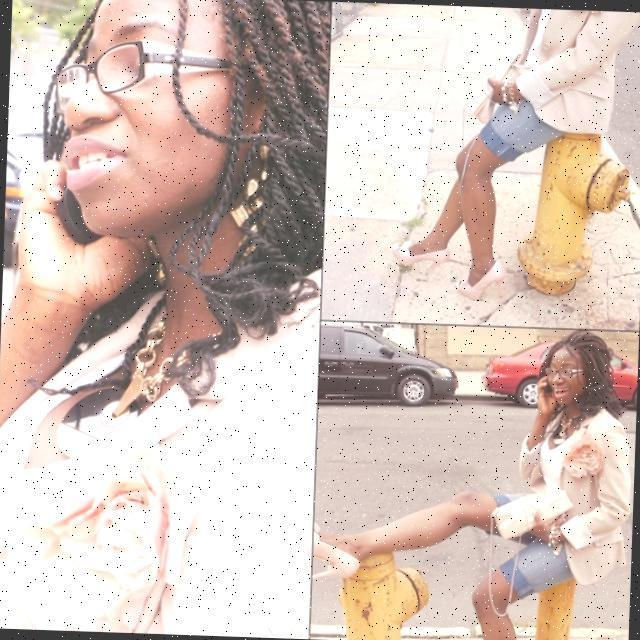fire_hydrant: (519, 130, 631, 302), (334, 547, 436, 637)
